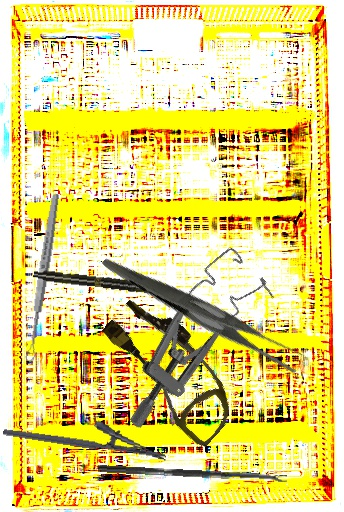Cannula: (87, 288, 256, 450)
Dressing Forceps: (101, 206, 308, 417)
Handpiece: (32, 267, 183, 300)
Needle Holder: (2, 406, 171, 462)
Speculum: (86, 243, 287, 431)
Surgical Spoon: (23, 193, 62, 362), (97, 465, 288, 483)
